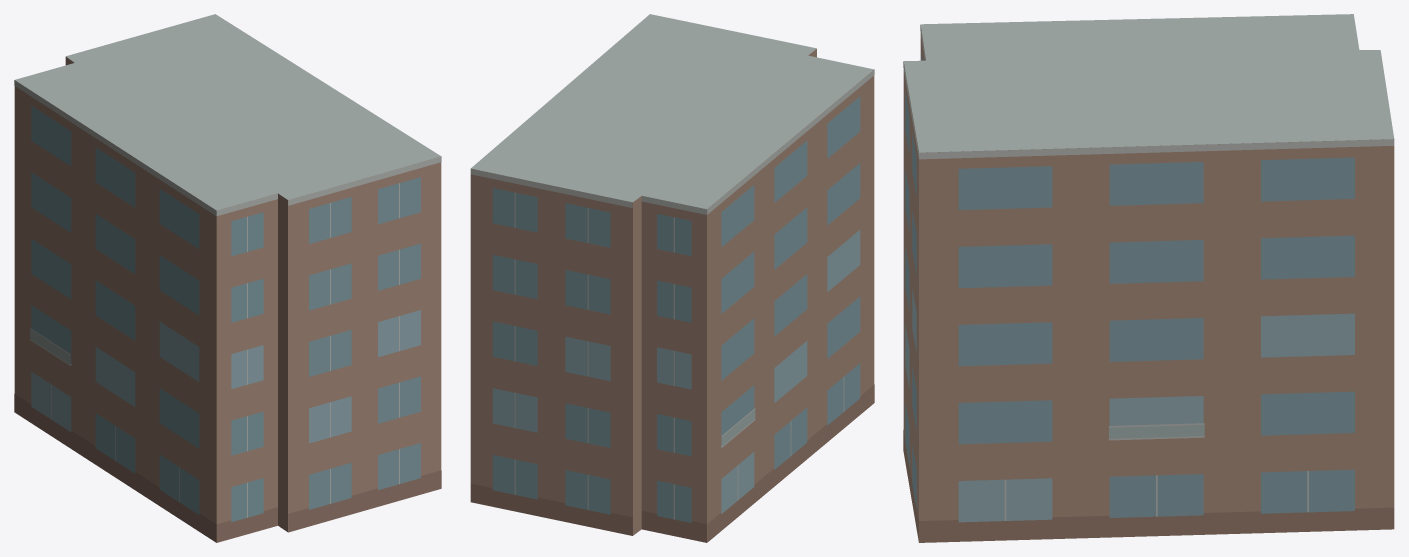
The model's file is survey-upis-32703354.glb.
The picture shows the model from 3 angles, left to right: view 1: azimuth 30°, elevation 25°; view 2: azimuth 150°, elevation 25°; view 3: azimuth 270°, elevation 25°; orthographic projection. The views are drawn at different scales.
Visible parts, largest first — view 1: survey-upis-32703354.tmp; view 2: survey-upis-32703354.tmp; view 3: survey-upis-32703354.tmp.
Boxes of the visible parts, x1,y1,x2,y2 form: survey-upis-32703354.tmp: [14, 14, 441, 542]; survey-upis-32703354.tmp: [470, 14, 874, 542]; survey-upis-32703354.tmp: [903, 14, 1394, 542].
Bounding box in the file's own units: 10.79 × 14.15 × 16.14.
